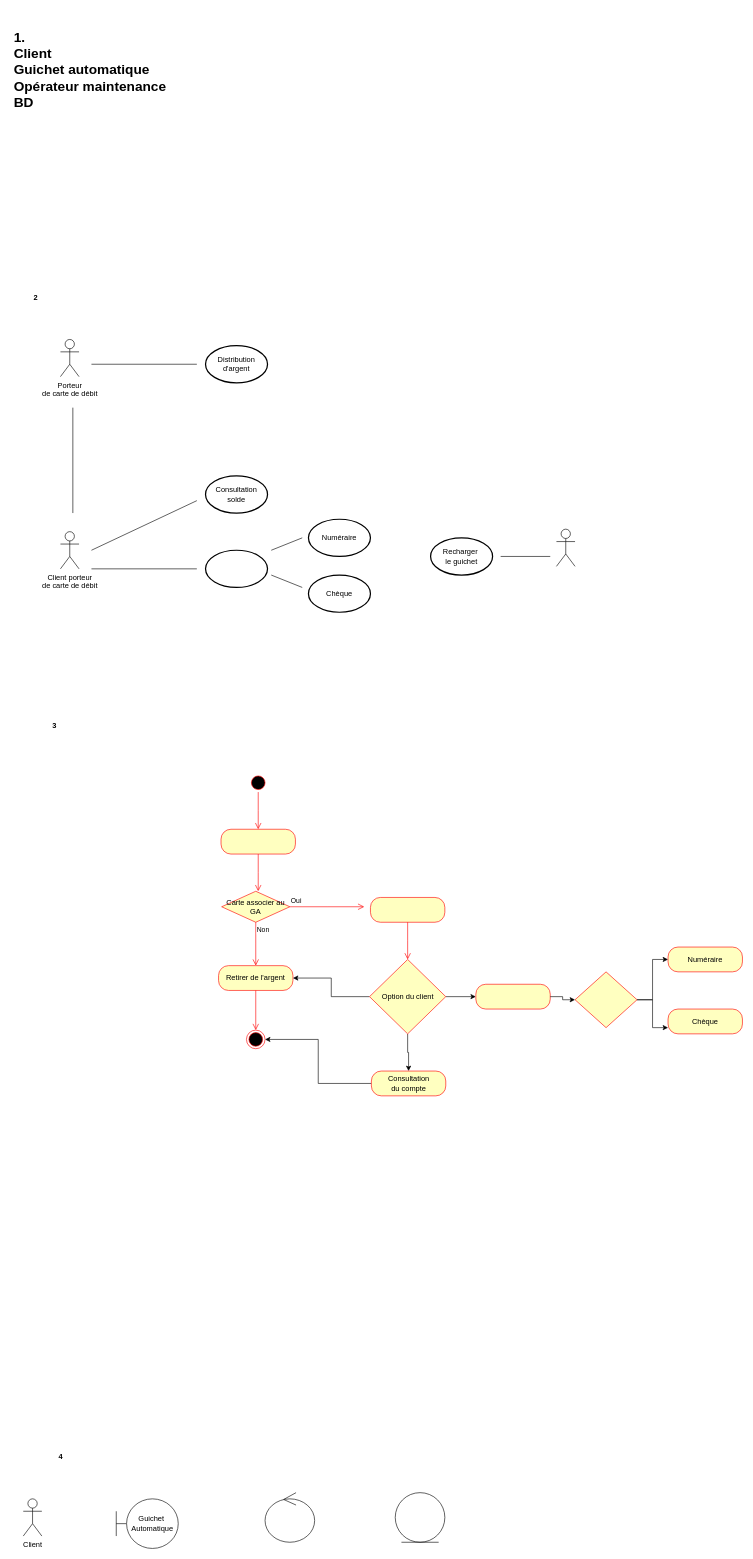
Image size: 753x1559. Some labels were removed from this diagram. Here are the shapes that lost their labels. From the top down, the centre of each, then its label:
At point (565, 547): "Opérateur de maintenance".
At point (236, 568): "Dépôt".
At point (257, 841): "Le client insère ca carte".
At point (407, 909): "Connexion au compte".
At point (512, 996): "Dépot".
At point (605, 999): "Choix du dépot".
At point (289, 1517): "Control".
At point (420, 1517): "BD".
